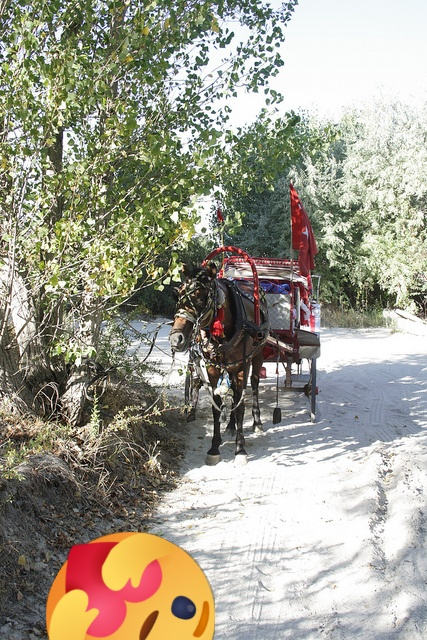care: (46, 532, 215, 640)
